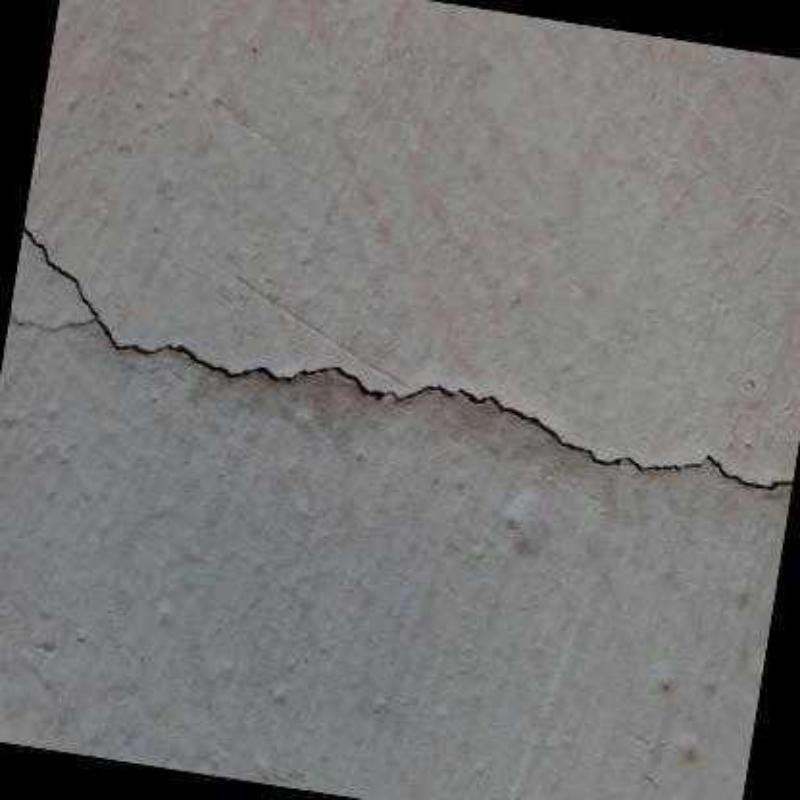crack: (21, 224, 793, 493), (8, 313, 94, 333)
